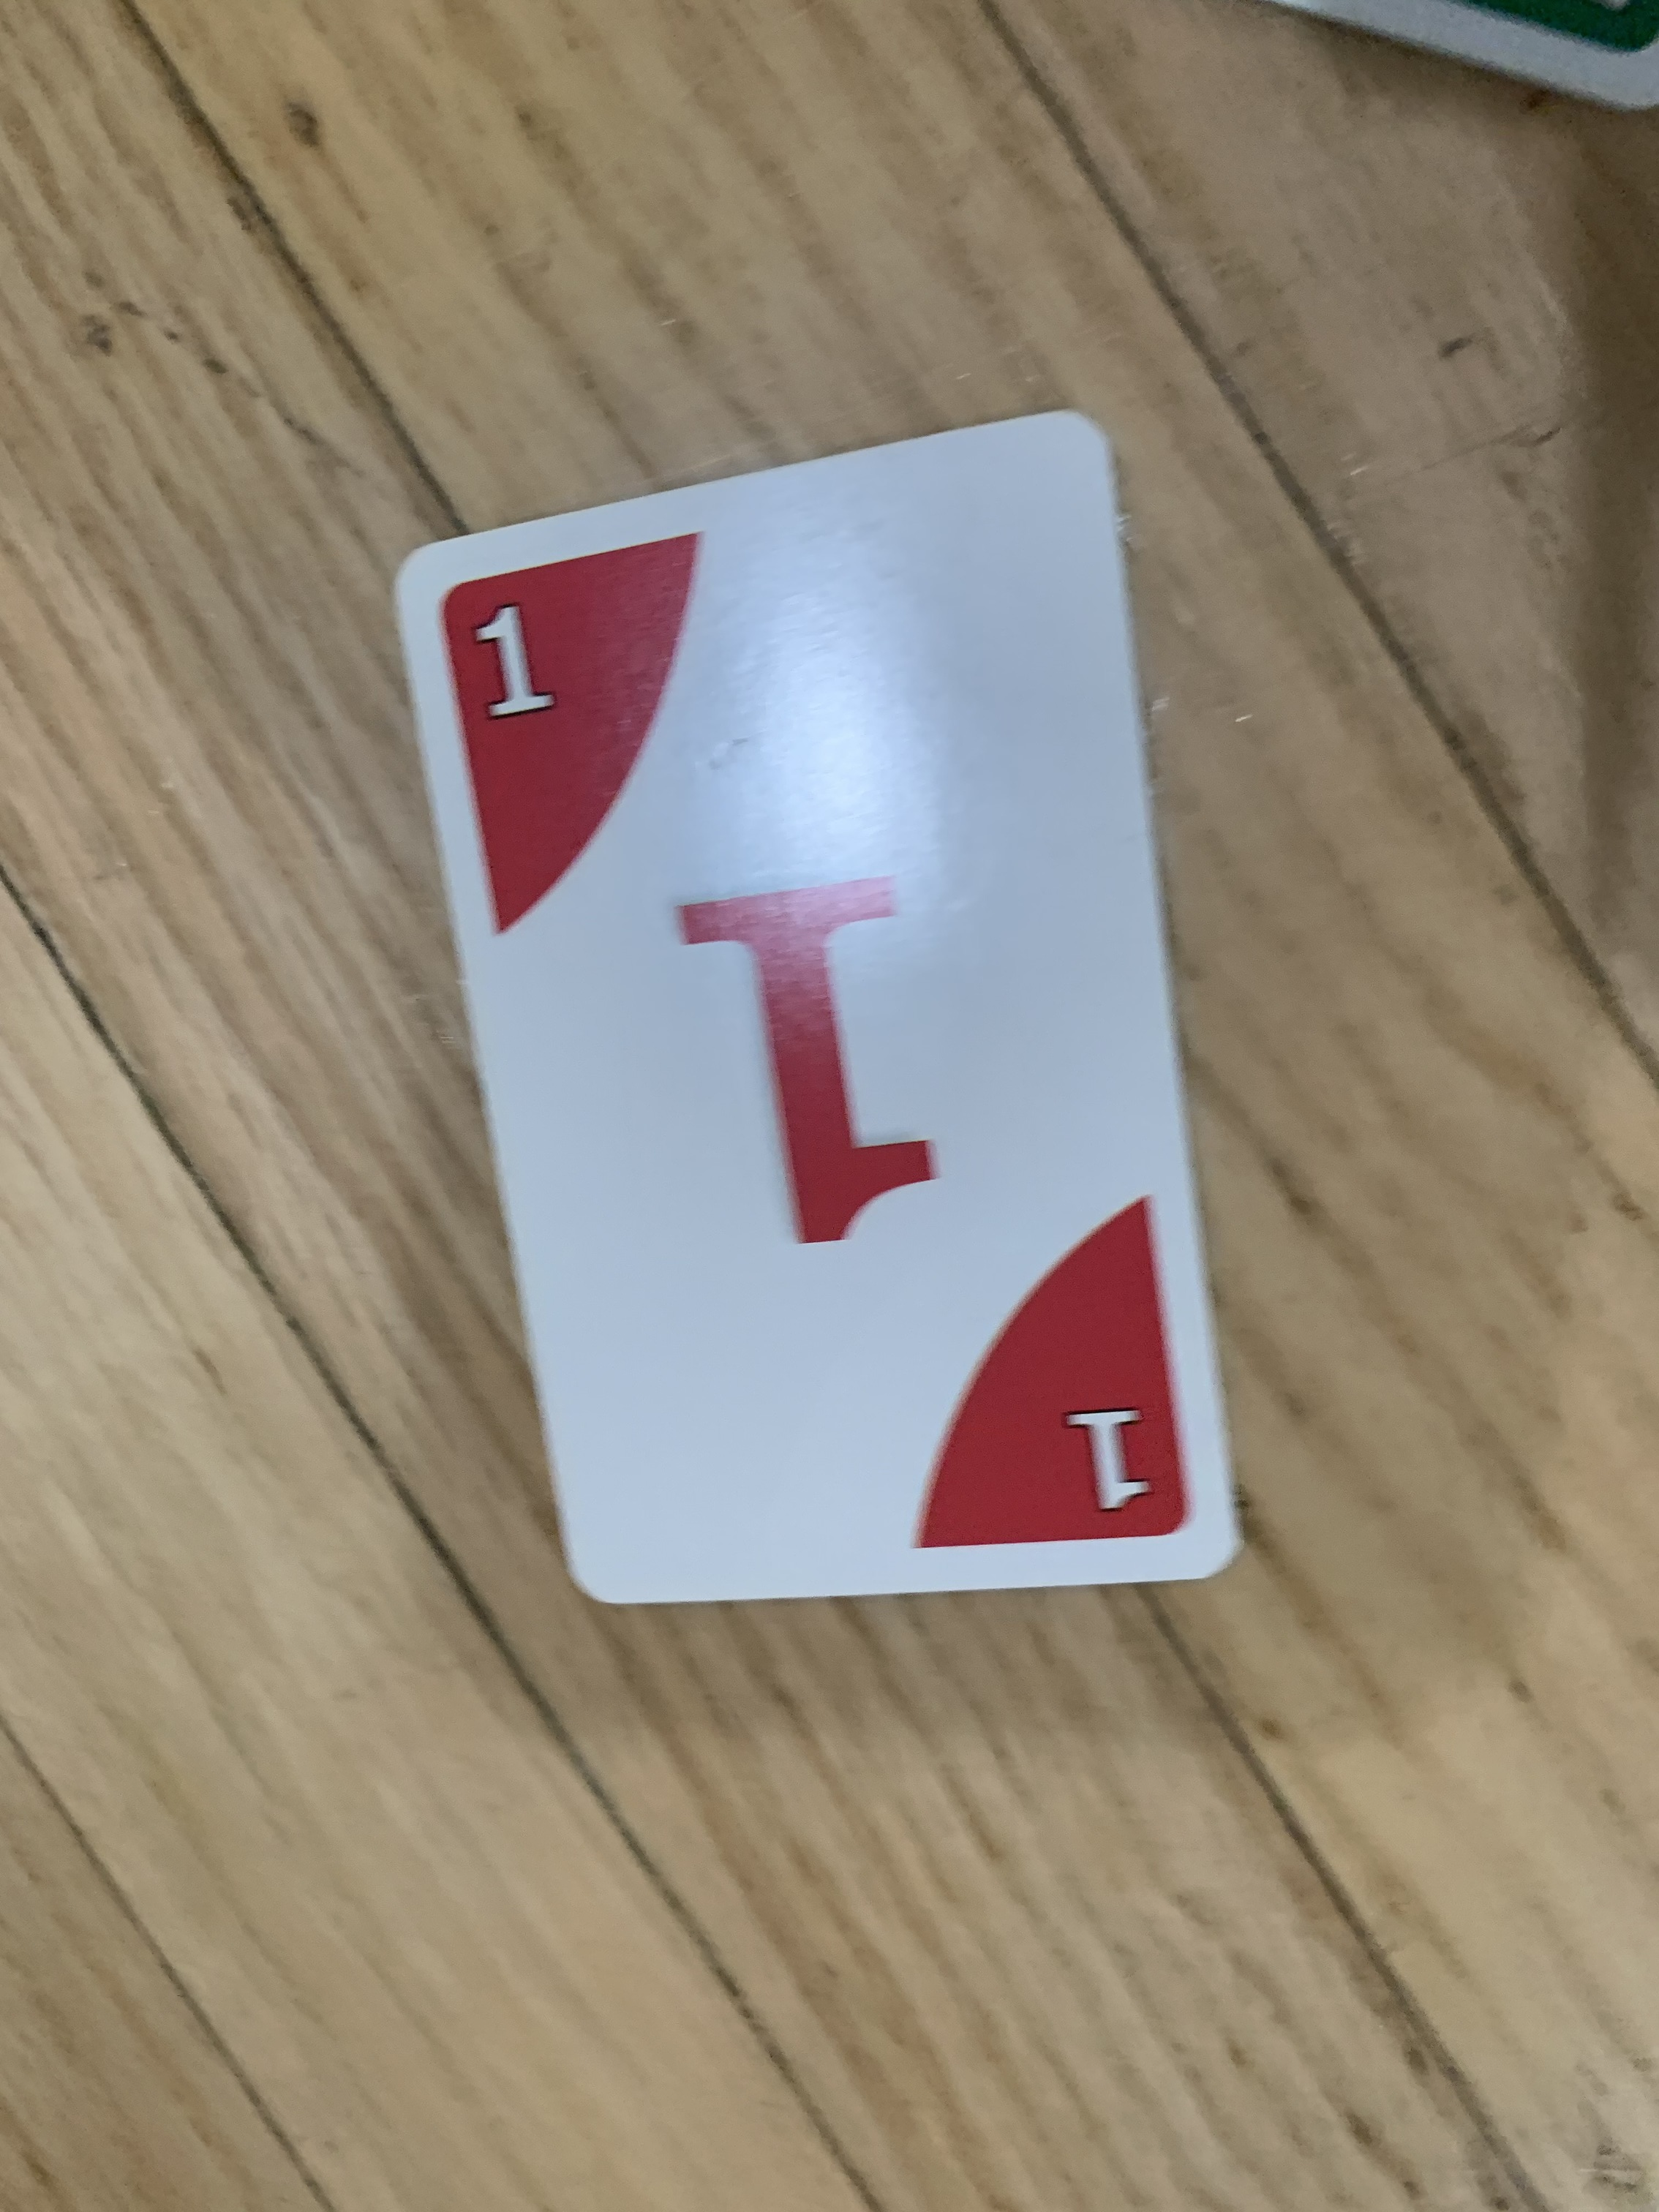one: (380, 385, 1265, 1629)
